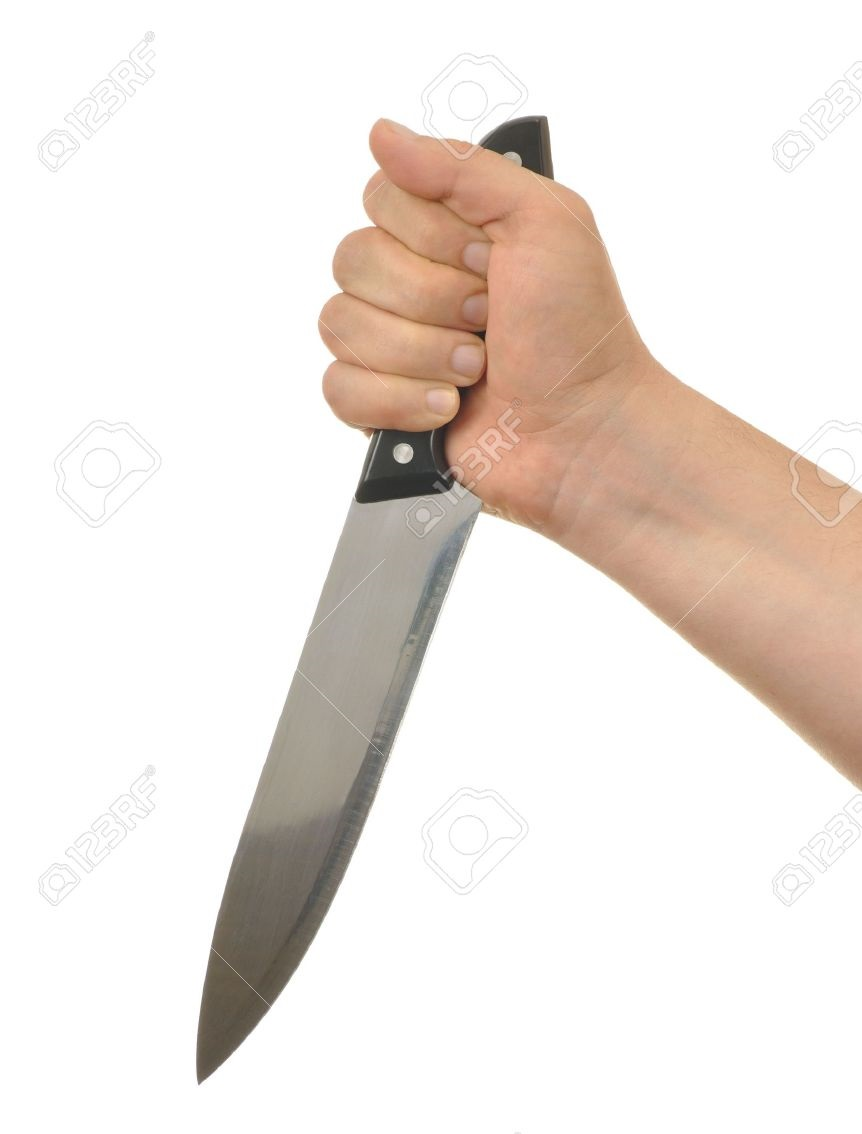knife: (175, 176, 586, 1103)
